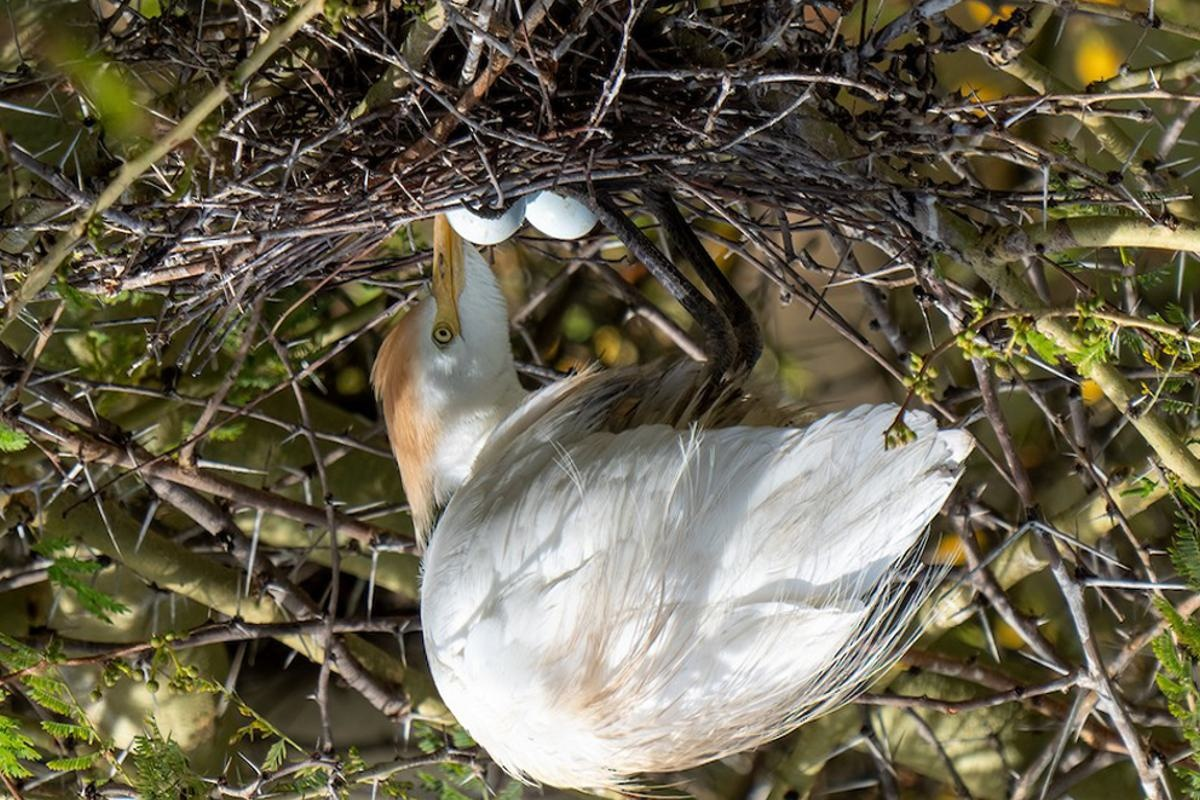egret: (350, 186, 981, 762)
